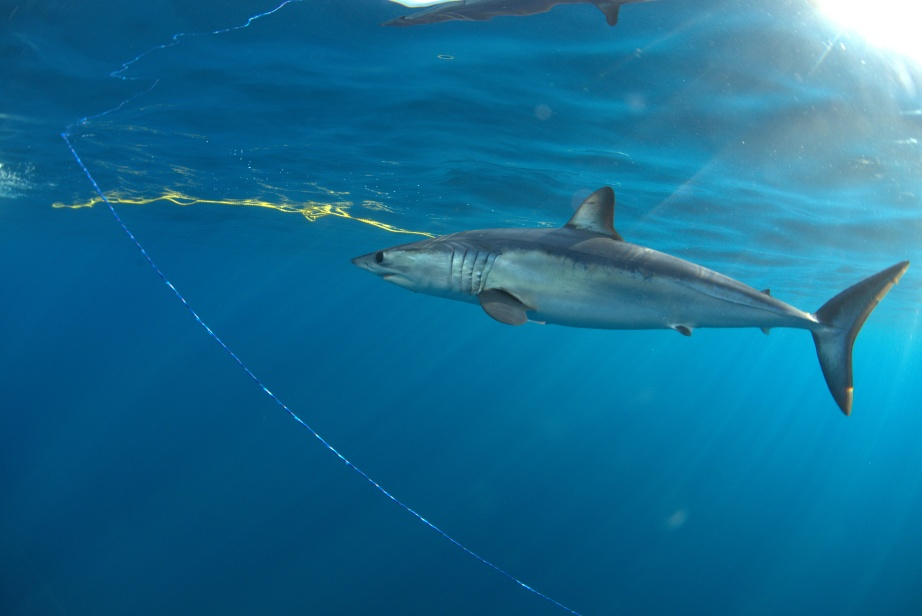Mako: (324, 182, 918, 431)
